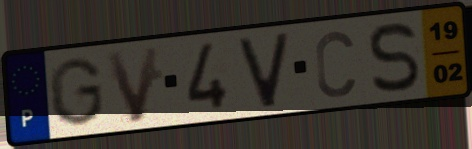4: (183, 39, 232, 115)
C: (312, 28, 358, 101)
G: (46, 55, 107, 129)
S: (367, 19, 423, 96)
V: (101, 42, 164, 126), (235, 29, 293, 111)
